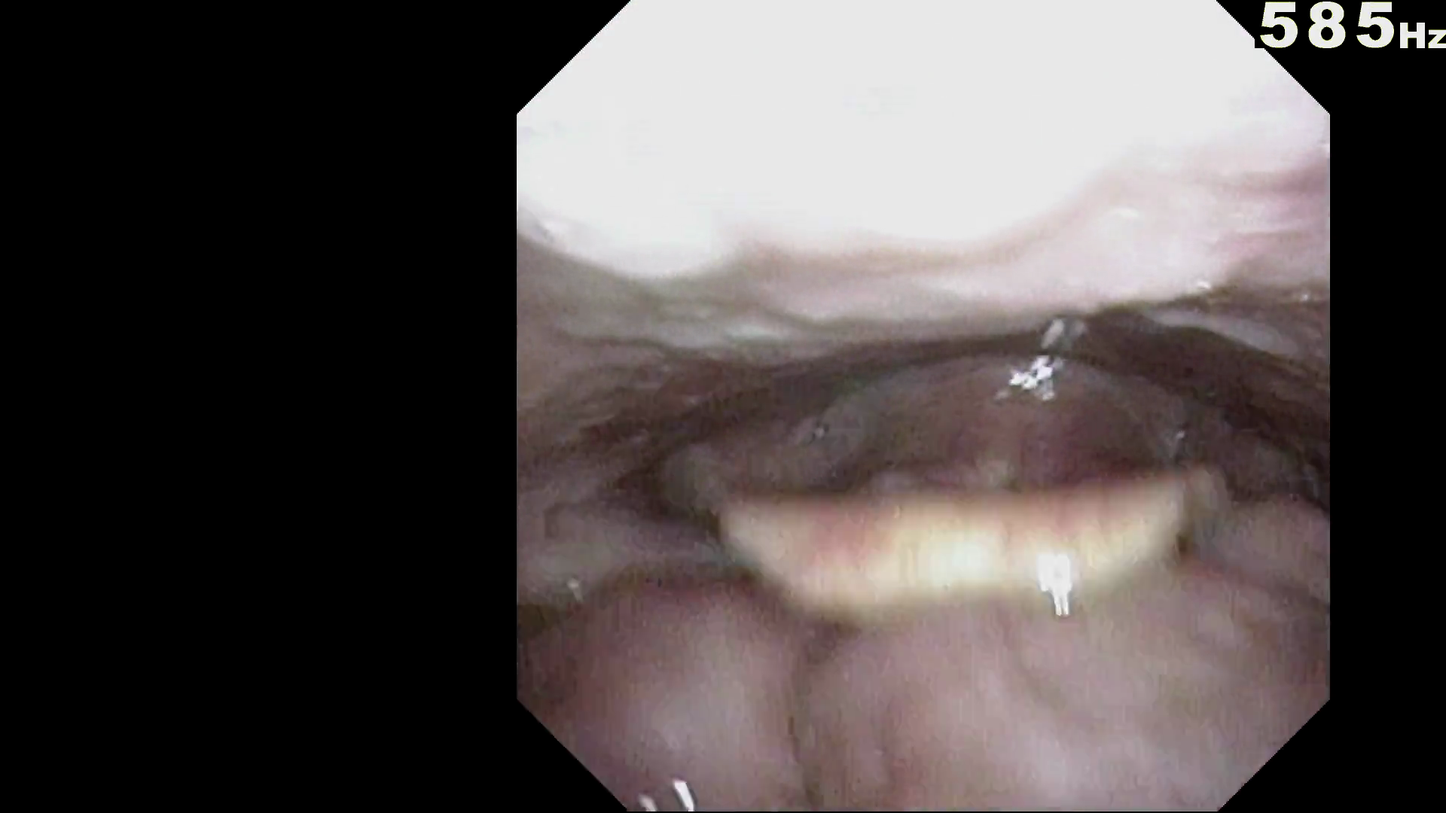epiglottis: (684, 586, 1226, 725)
trachea: (926, 533, 1054, 627)
